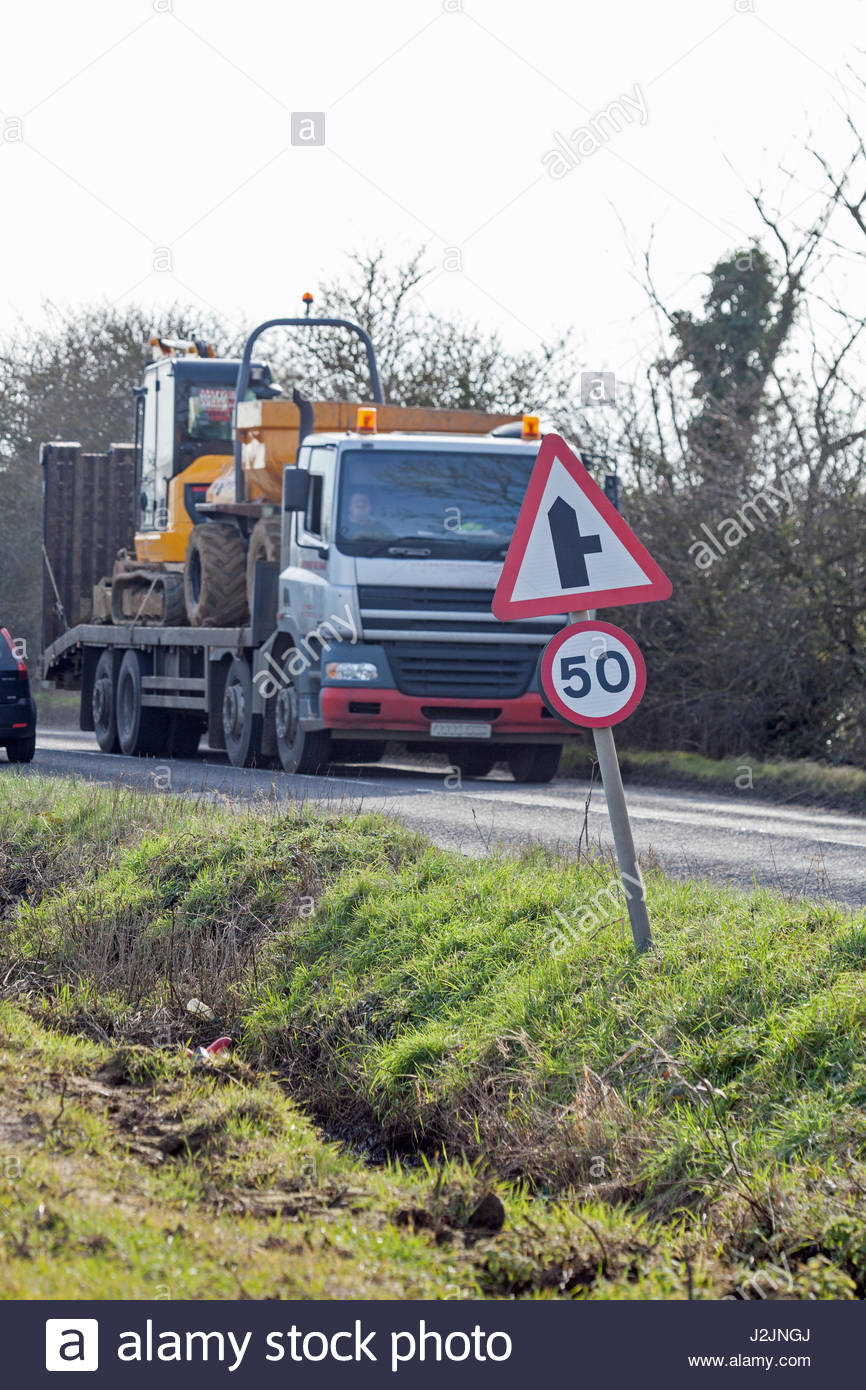speed_limit_50: (539, 625, 651, 730)
